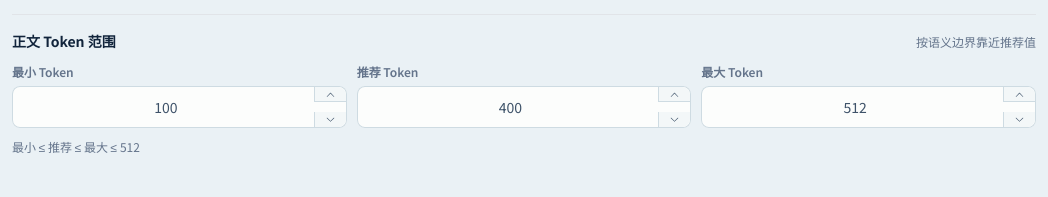
Test case: MarkdownStrategyConfig › reports an inline error for 400/100/512 and does not publish the invalid config
The width and height of the screenshot is (1048, 197).
Replace the text in the number field labelled "最小 Token" with "400": x=166, y=107 top-left (27, 87), bottom-right (305, 127)
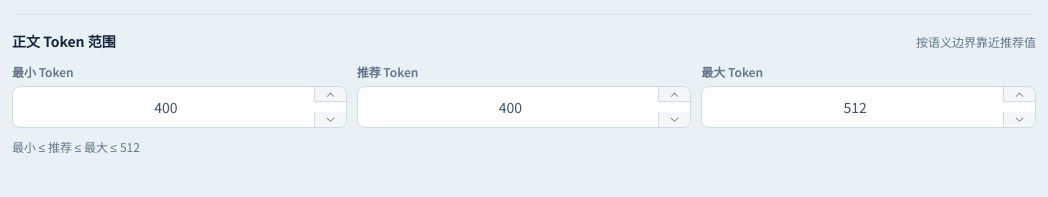
Replace the text in the number field labelled "推荐 Token" with "100": x=511, y=107 top-left (372, 87), bottom-right (649, 127)
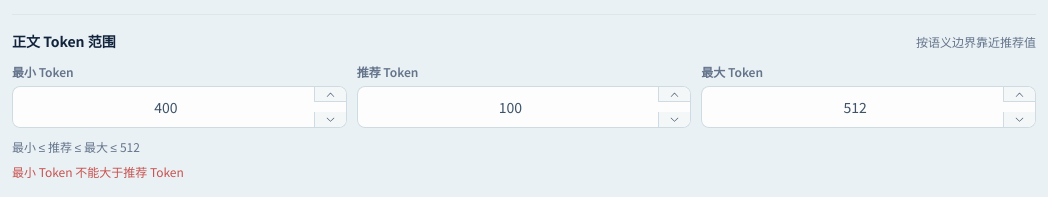
expect the message "最小 Token 不能大于推荐 Token" is shown: met, box top-left (12, 163), bottom-right (184, 180)
